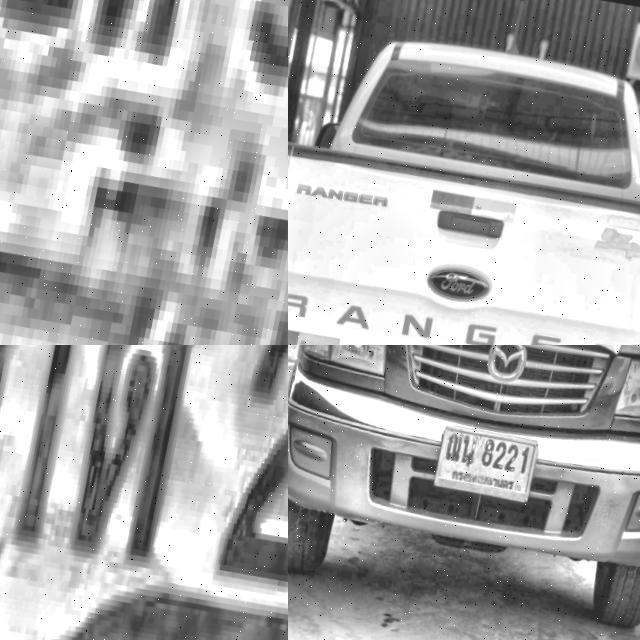license-plate: (0, 0, 288, 345), (0, 345, 288, 640), (429, 420, 540, 510)
